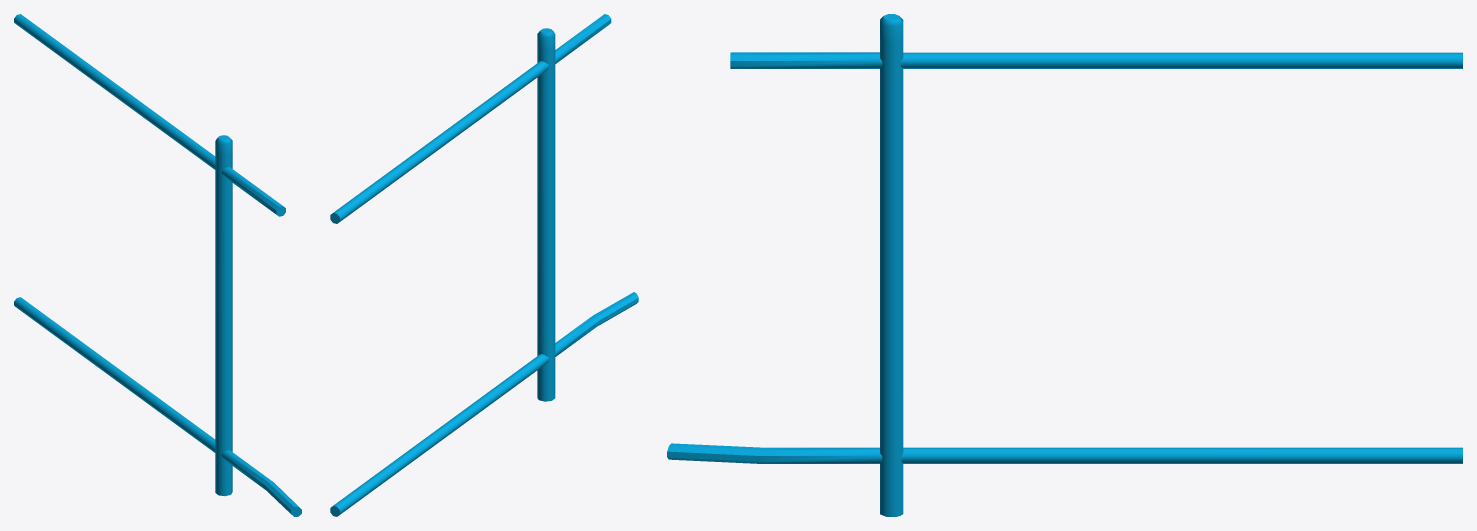
File: Garden_Fence_03_Break_02_Lod0.fbx
3 renders of one model, left to right at view 1: azimuth 30°, elevation 25°; view 2: azimuth 150°, elevation 25°; view 3: azimuth 270°, elevation 25°, orthographic. The views are drawn at different scales.
Parts seen in each view (by area): view 1: Garden_Fence_03_Break_02_Lod0; view 2: Garden_Fence_03_Break_02_Lod0; view 3: Garden_Fence_03_Break_02_Lod0.
Boxes of the visible parts, x1,y1,x2,y2 form: Garden_Fence_03_Break_02_Lod0: [14, 14, 301, 516]; Garden_Fence_03_Break_02_Lod0: [330, 14, 638, 516]; Garden_Fence_03_Break_02_Lod0: [667, 14, 1462, 516].
Bounding box in the file's own units: 15.13 × 285 × 415.
